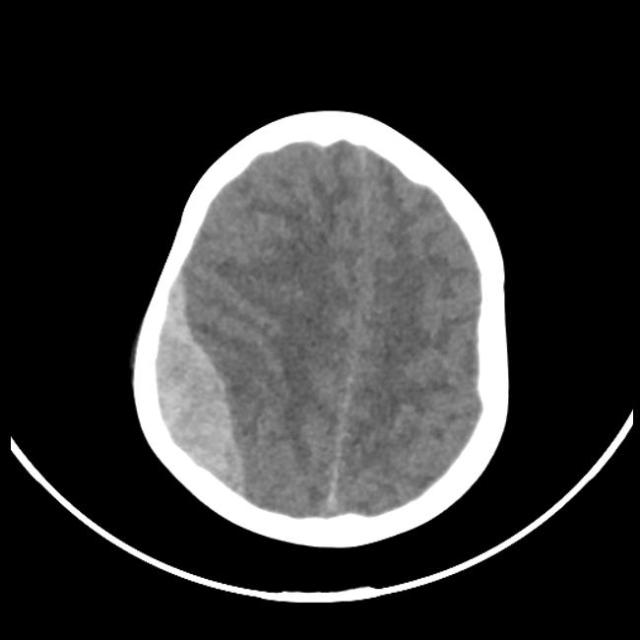lesion: (129, 110, 511, 540)
